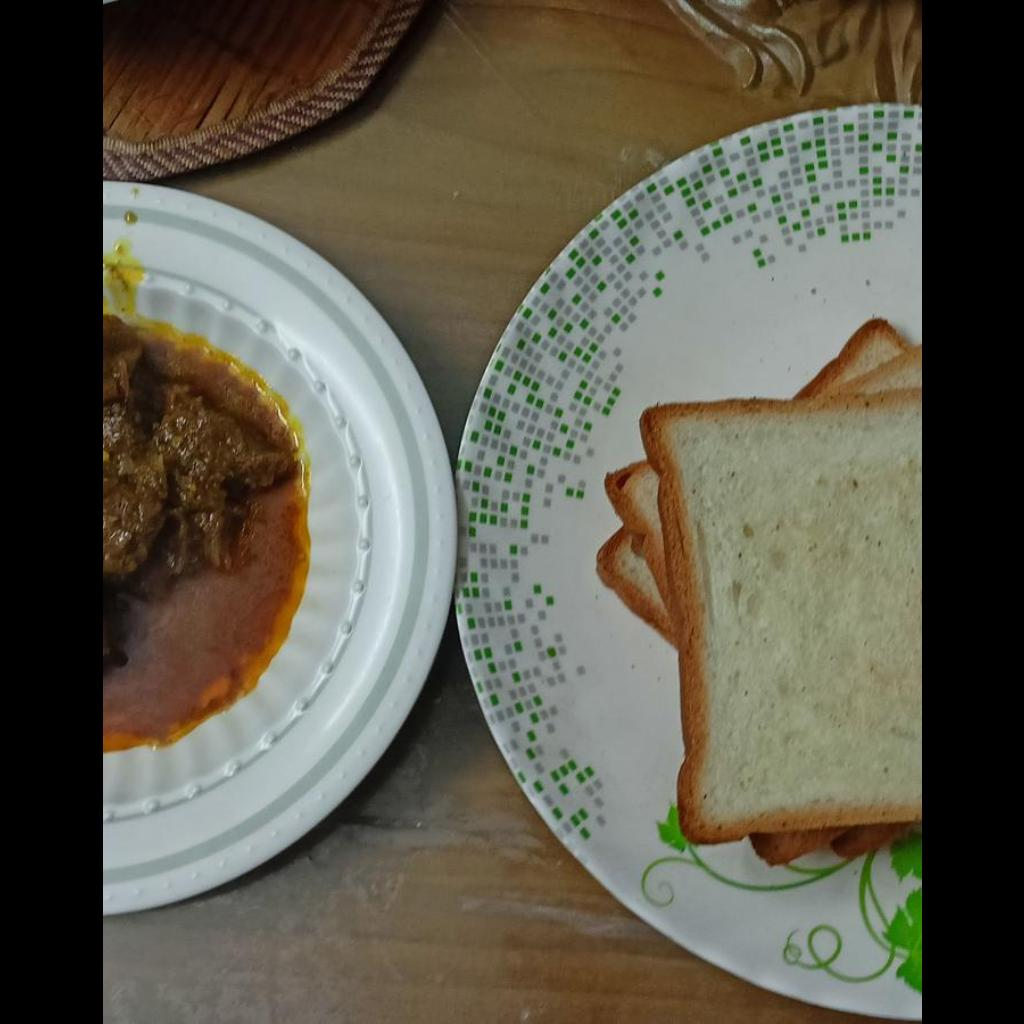beef: (102, 320, 289, 591)
bread: (596, 318, 920, 838)
